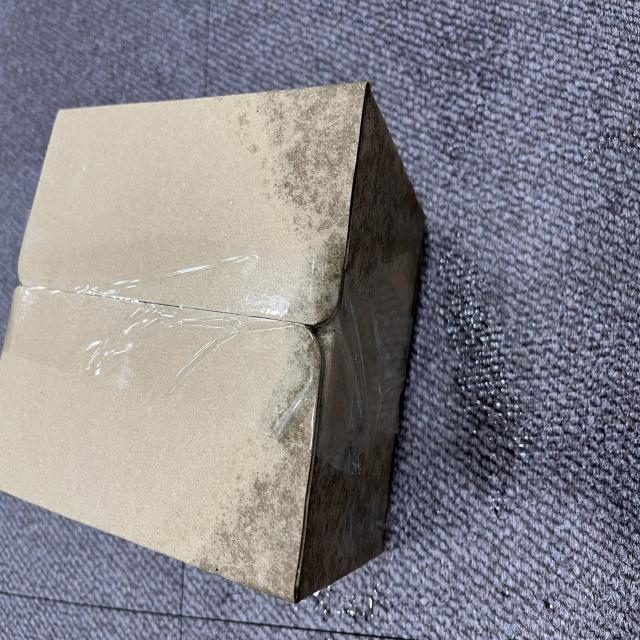wet: (183, 96, 441, 598)
